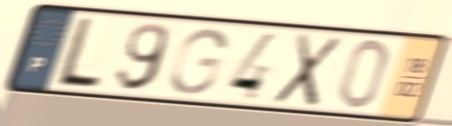0: (335, 37, 392, 112)
4: (222, 29, 281, 104)
9: (113, 21, 173, 93)
G: (167, 26, 229, 97)
L: (48, 15, 107, 92)
X: (268, 30, 346, 110)
